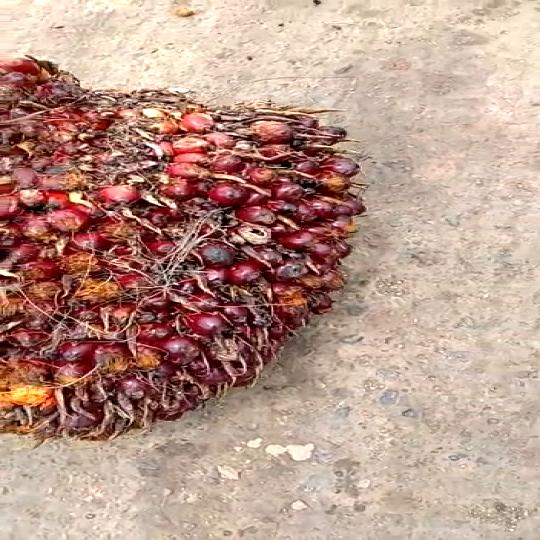masak: (2, 46, 385, 449)
